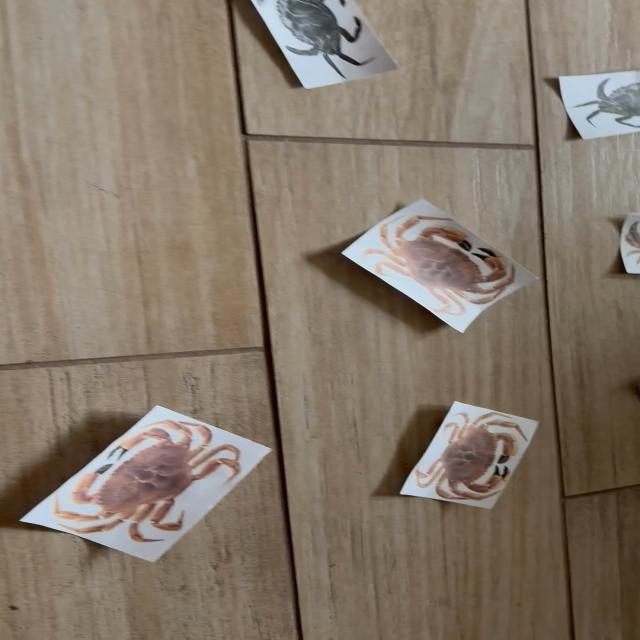egc: (251, 0, 397, 89), (561, 72, 639, 139)
